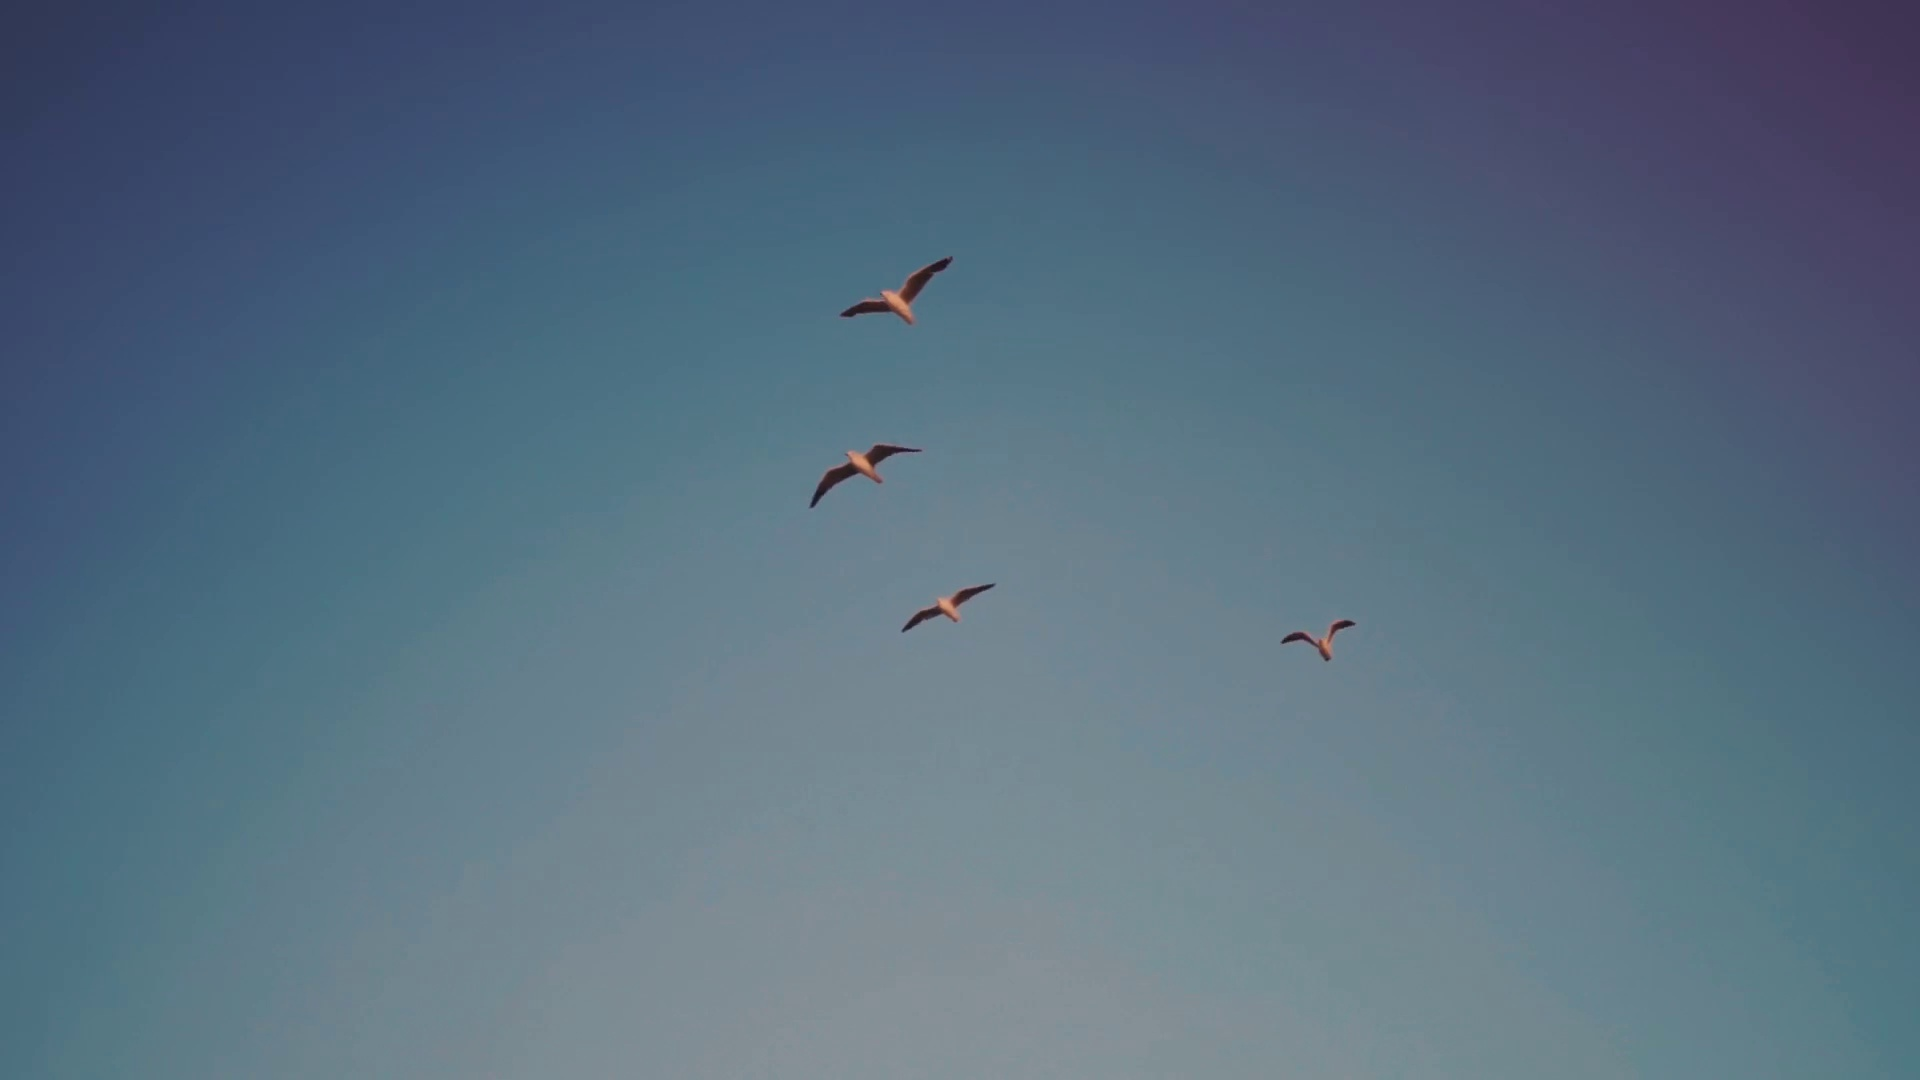bird: (804, 440, 920, 510), (840, 255, 957, 323), (898, 574, 994, 632), (1280, 616, 1353, 659)
